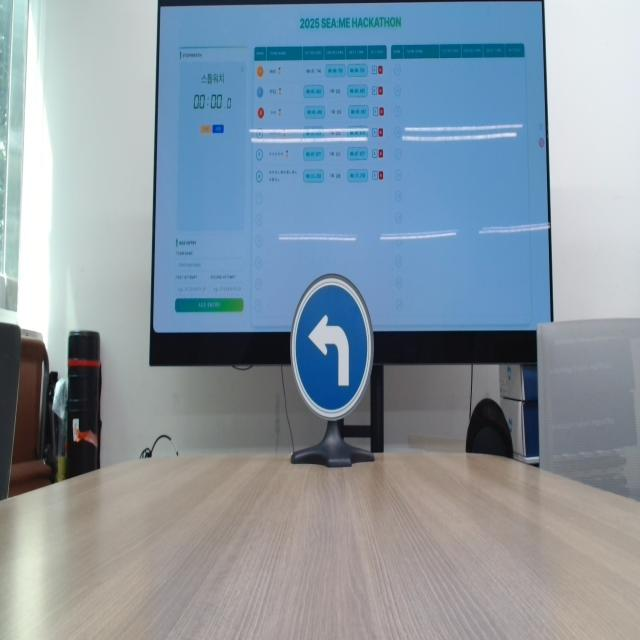green_light: (289, 274, 374, 420)
left_direction: (290, 274, 373, 419)
